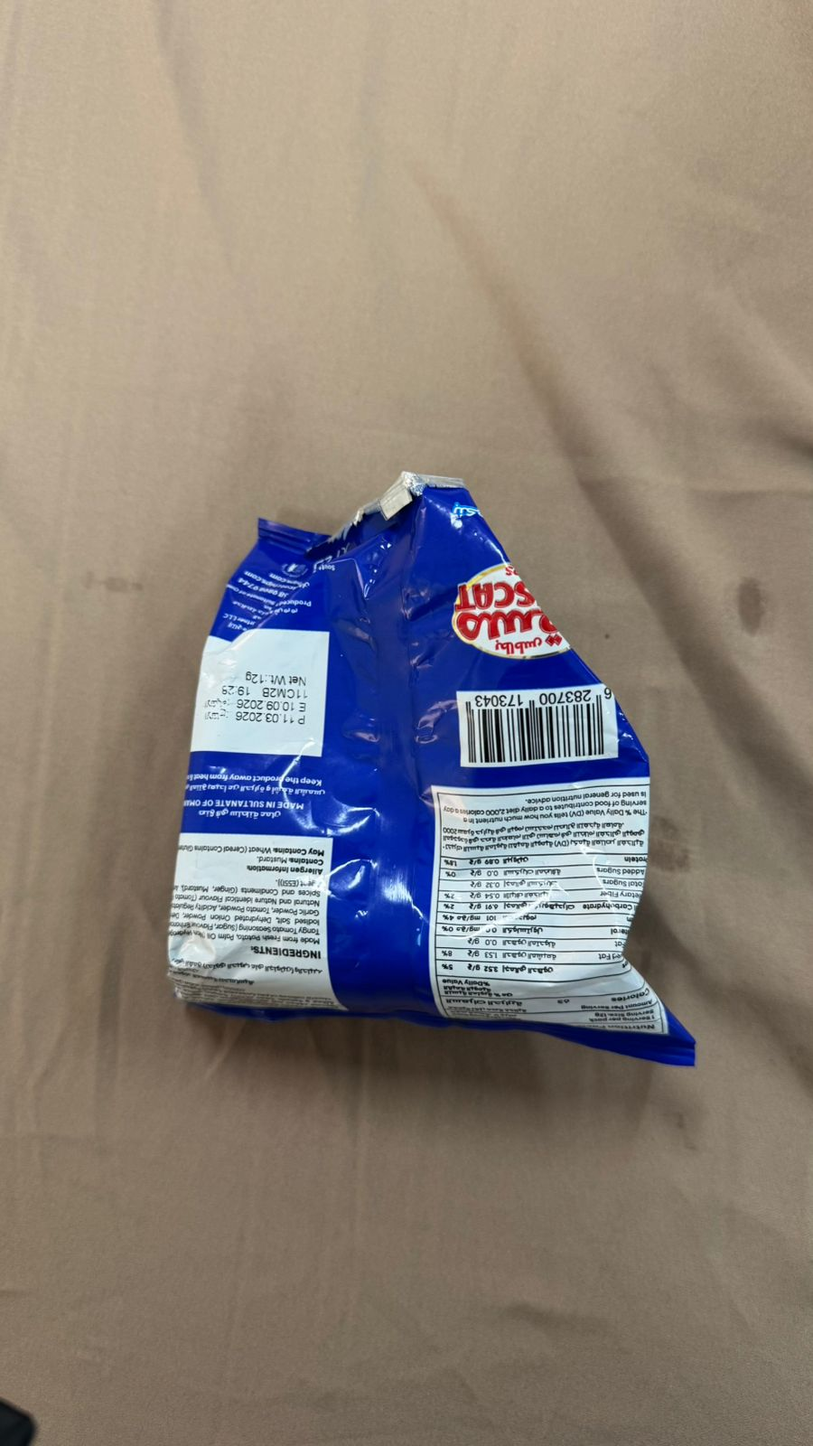plastic: (81, 226, 732, 1383)
